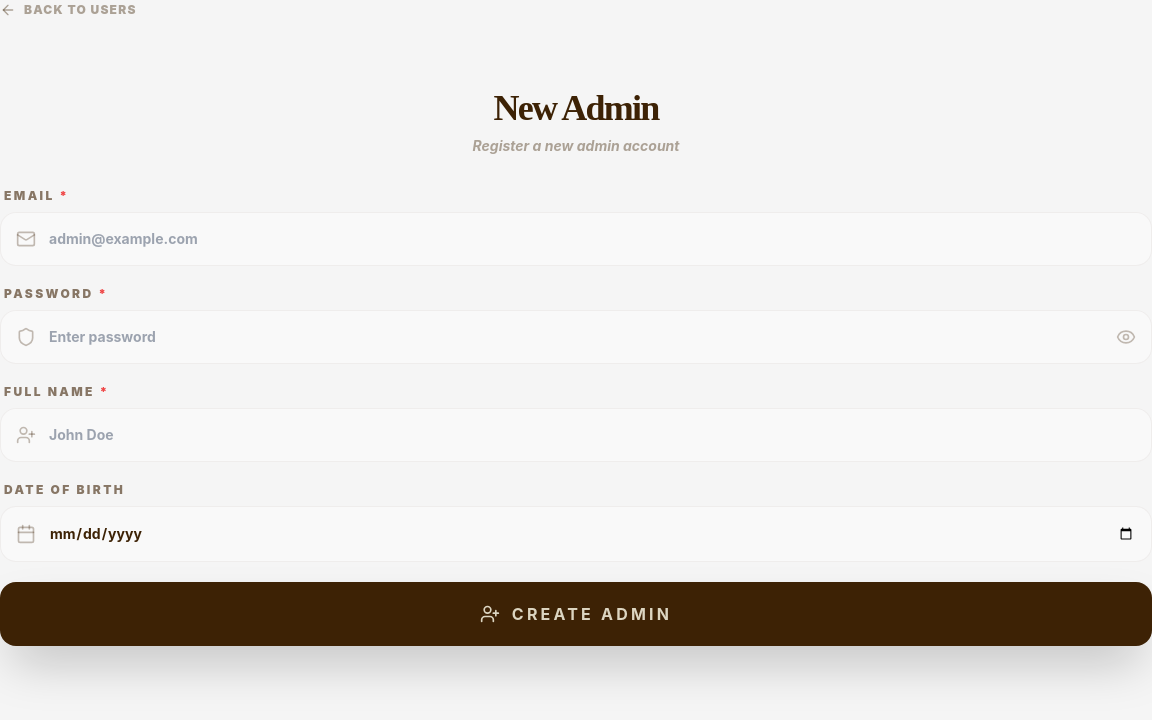
UserNewPage › shows error when password is empty
In the field with placeholder "admin@example.com": (576, 239) x1=0 y1=212 x2=1151 y2=266, type "test@bukoo.com"
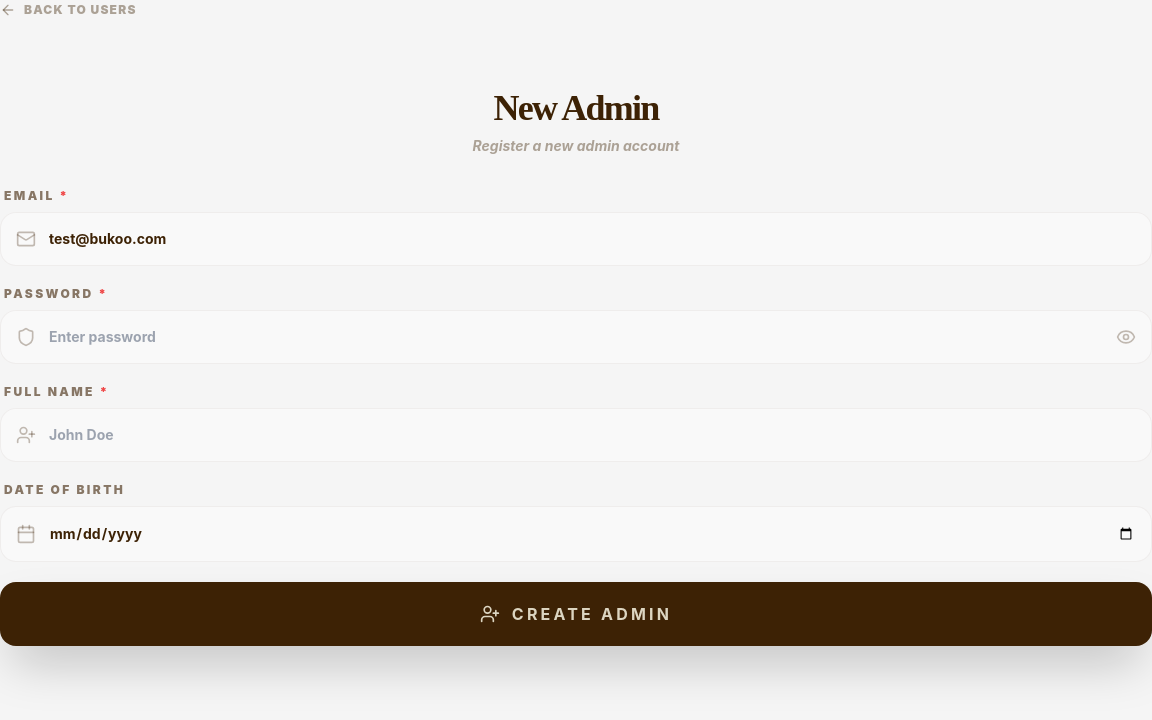
Click the button "Create Admin": (576, 614) x1=0 y1=582 x2=1151 y2=646
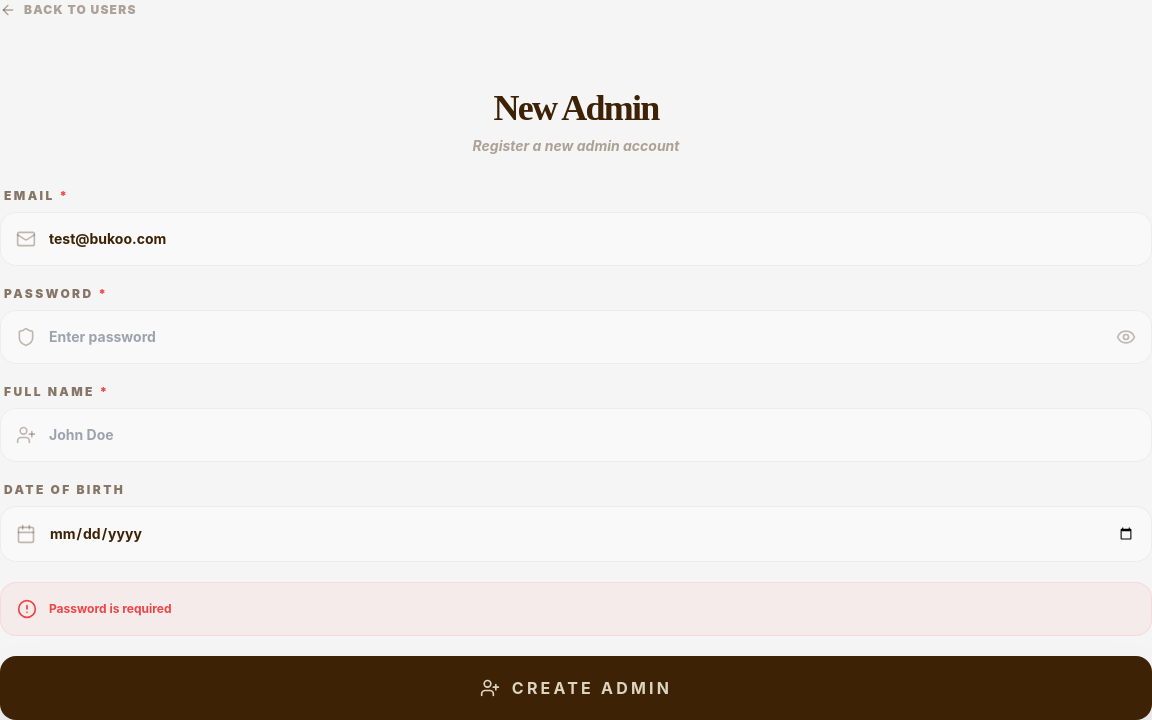
Expected: the text "Password is required" is shown, x1=49 y1=599 x2=172 y2=618
